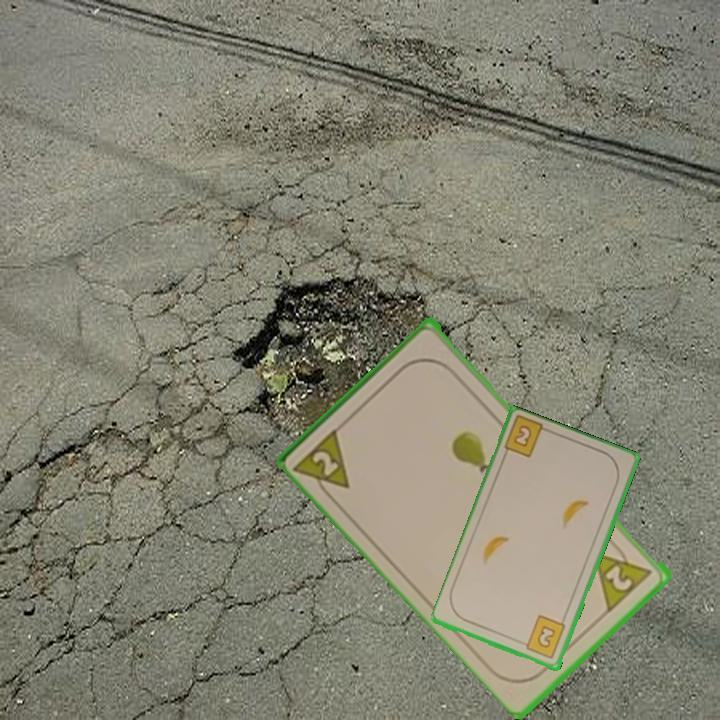2b: (517, 612, 569, 662), (510, 422, 535, 451)
2p: (590, 537, 655, 614), (308, 447, 342, 480)
